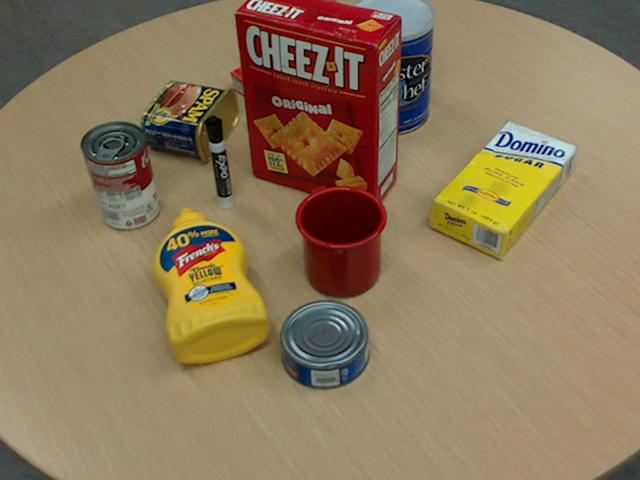cracker_box: (235, 0, 402, 208)
gelatin_box: (229, 50, 313, 114)
large_marker: (204, 116, 232, 210)
master_chef_can: (347, 0, 434, 135)
mug: (294, 184, 386, 296)
mustard_bottle: (151, 208, 269, 362)
potted_meat_can: (140, 80, 238, 160)
sugar_box: (429, 122, 576, 258)
tomato_soup_can: (80, 119, 158, 228)
tuna_fish_can: (280, 300, 369, 389)
